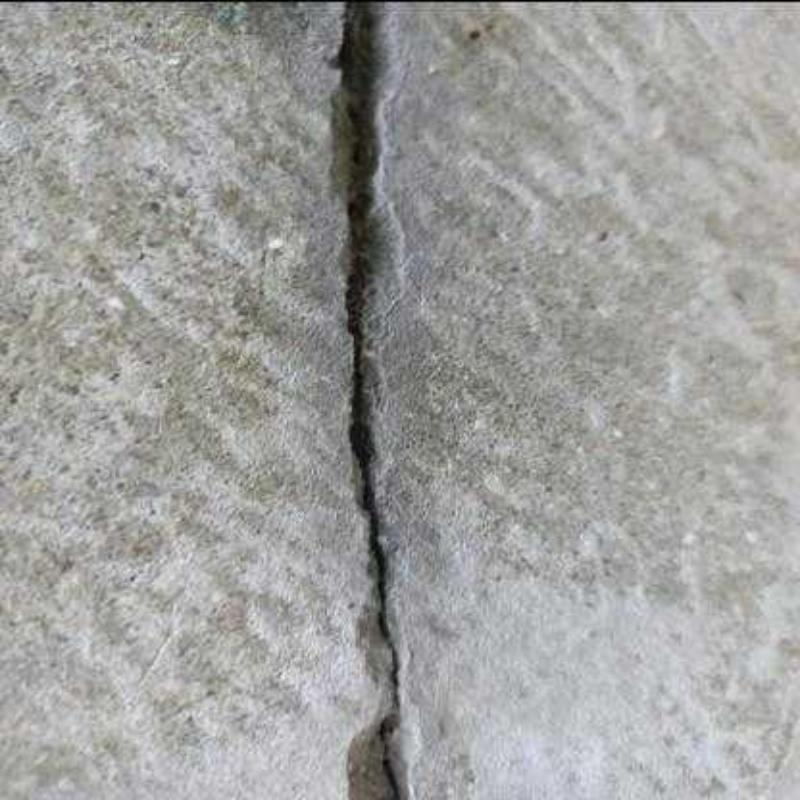pothole: (320, 0, 426, 800)
